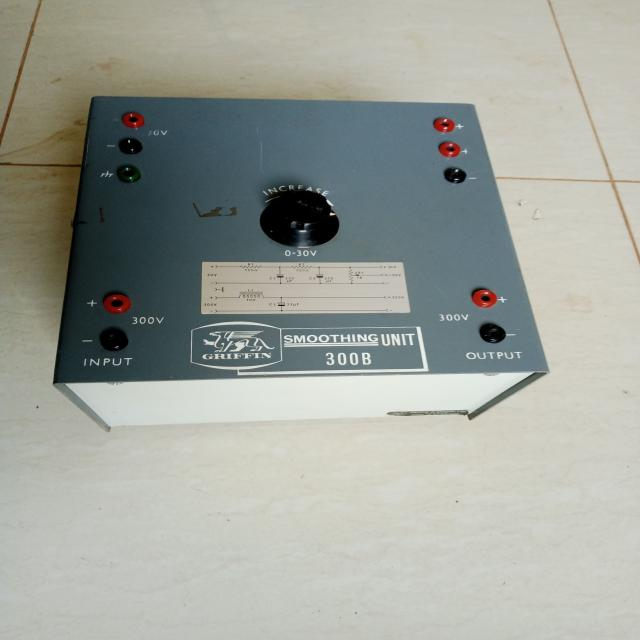Smoothing Unit: (40, 83, 550, 432)
